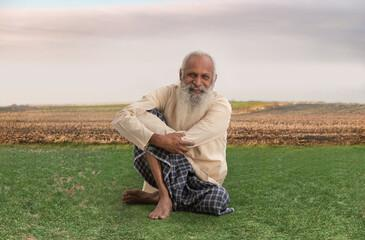Human: (119, 45, 242, 223)
